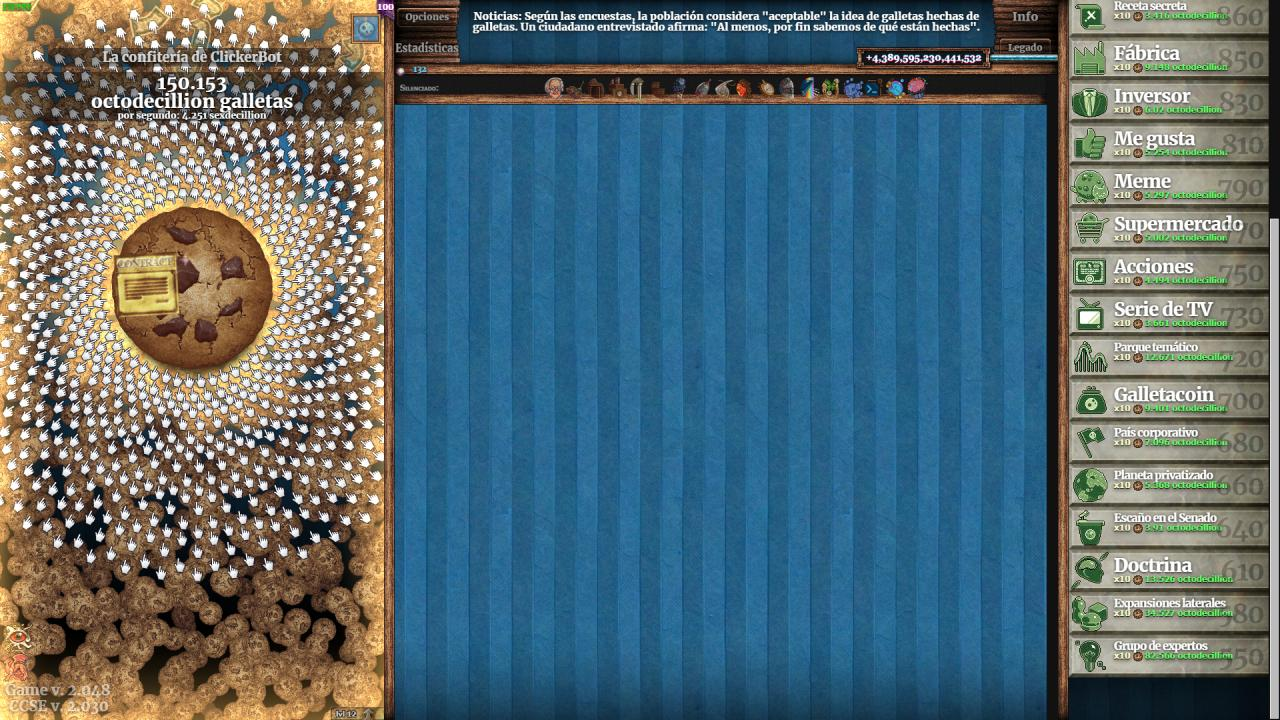GoldenCartridge: (113, 250, 181, 318)
